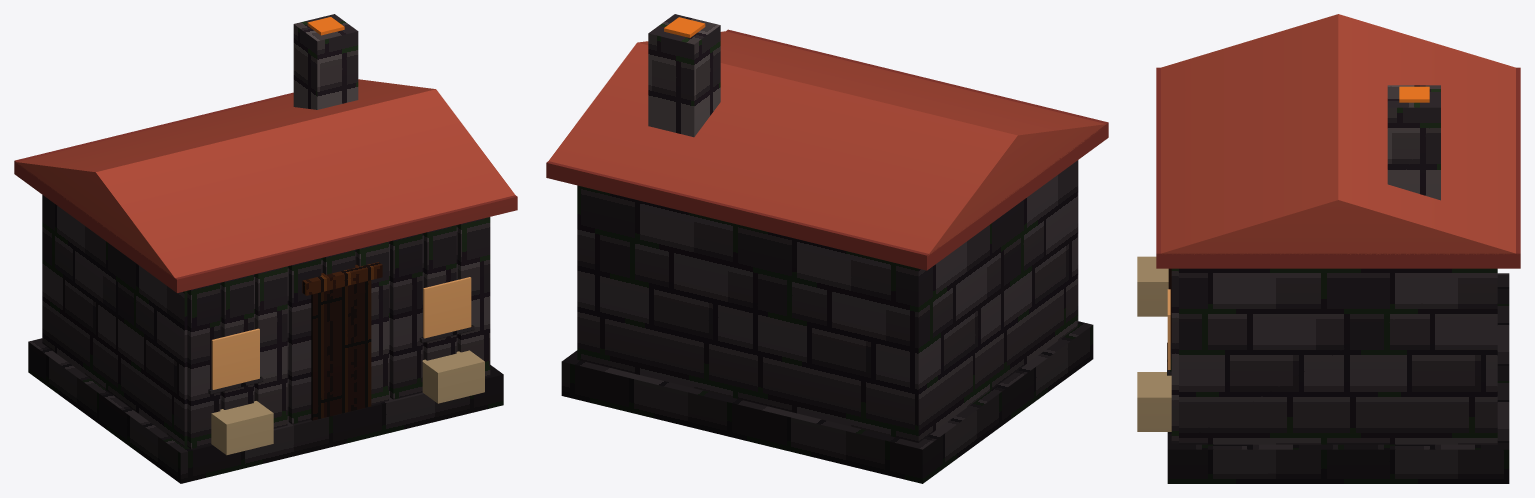
File: basalt_house.glb
3 renders of one model, left to right at view 1: azimuth 30°, elevation 25°; view 2: azimuth 150°, elevation 25°; view 3: azimuth 270°, elevation 25°, orthographic. The views are drawn at different scales.
Visible parts, largest first — view 1: basalt_house; view 2: basalt_house; view 3: basalt_house.
Part boxes in pixels (<box>): basalt_house: <box>14,14,517,483</box>; basalt_house: <box>546,14,1108,483</box>; basalt_house: <box>1137,14,1520,483</box>.
Bounding box in the file's own units: 5.8 × 5.15 × 5.05.
5 materials, 2 textured.
